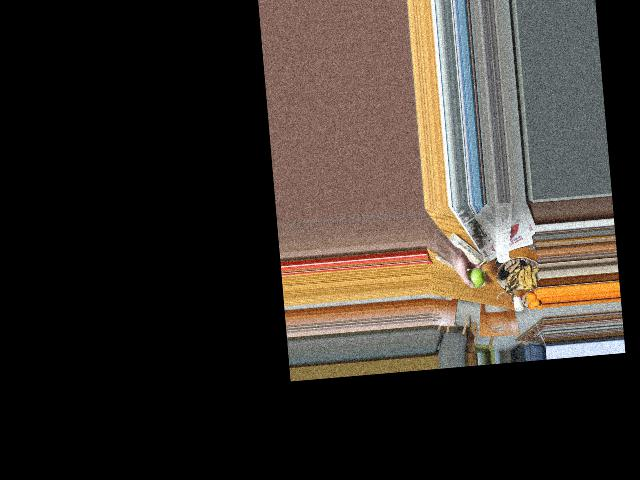apple: (463, 264, 485, 289)
